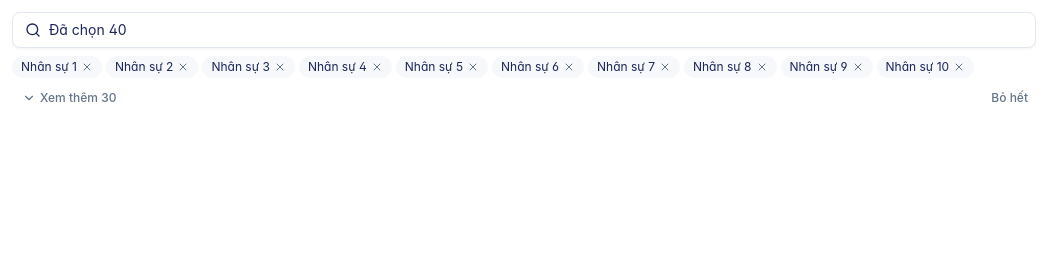
MultiPicker — dải chip khi chọn nhiều › bung ra thì thấy đủ, và thu gọn lại được
The image size is (1048, 254).
Click the button "Xem thêm 30": click(69, 98) [12,84,126,112]
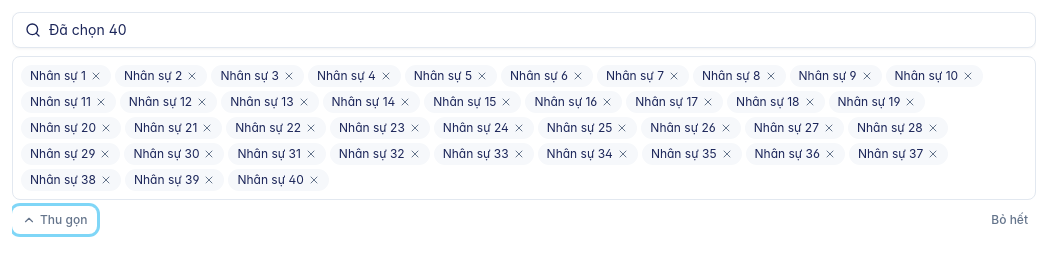
Now the number of buttons named "Bỏ Nhân sự" is 40
Click the button "Thu gọn": click(55, 220) [12,206,97,234]
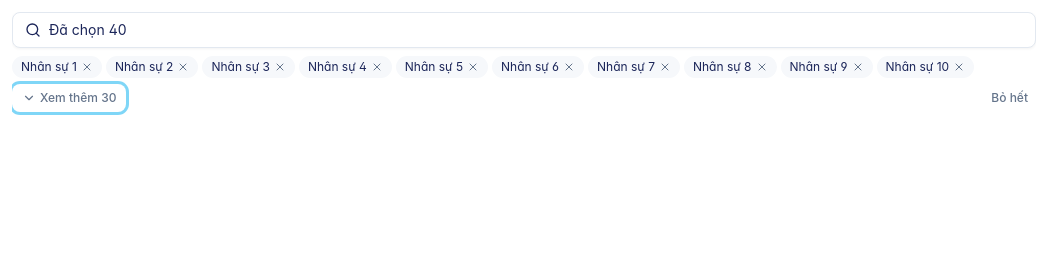
Now the number of buttons named "Bỏ Nhân sự" is 10
